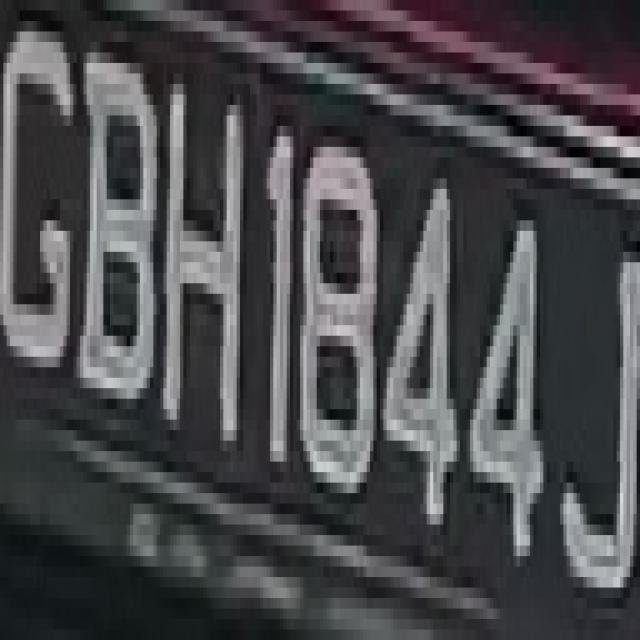1: (253, 94, 297, 503)
4: (383, 126, 477, 566), (463, 136, 547, 577)
8: (297, 105, 390, 535)
B: (73, 32, 160, 472)
G: (7, 0, 73, 409)
H: (150, 42, 247, 462)
J: (3, 3, 3, 11)
